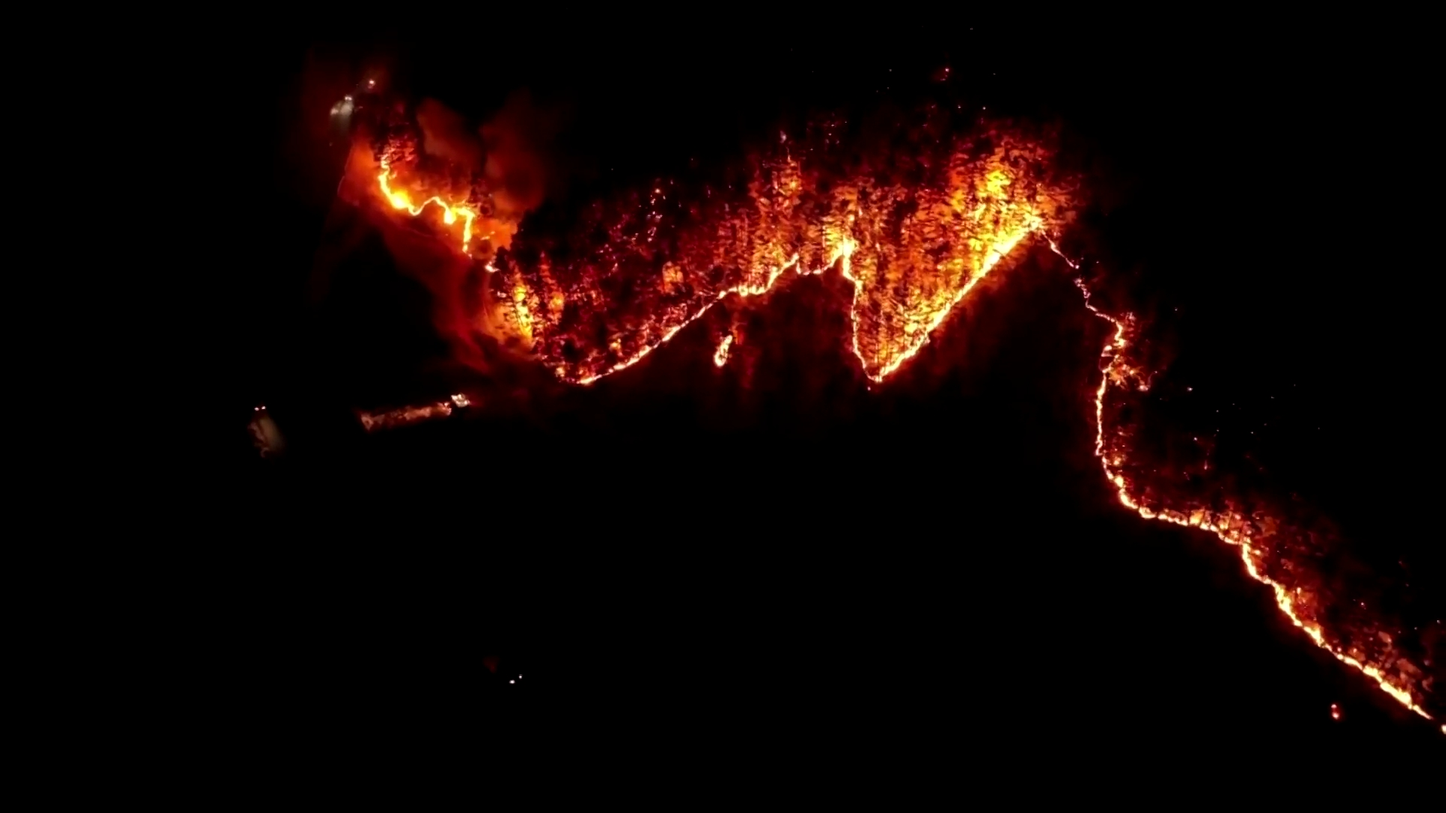forest_fire: (368, 110, 1081, 385), (1078, 274, 1437, 719), (362, 397, 466, 429), (712, 333, 742, 367)
